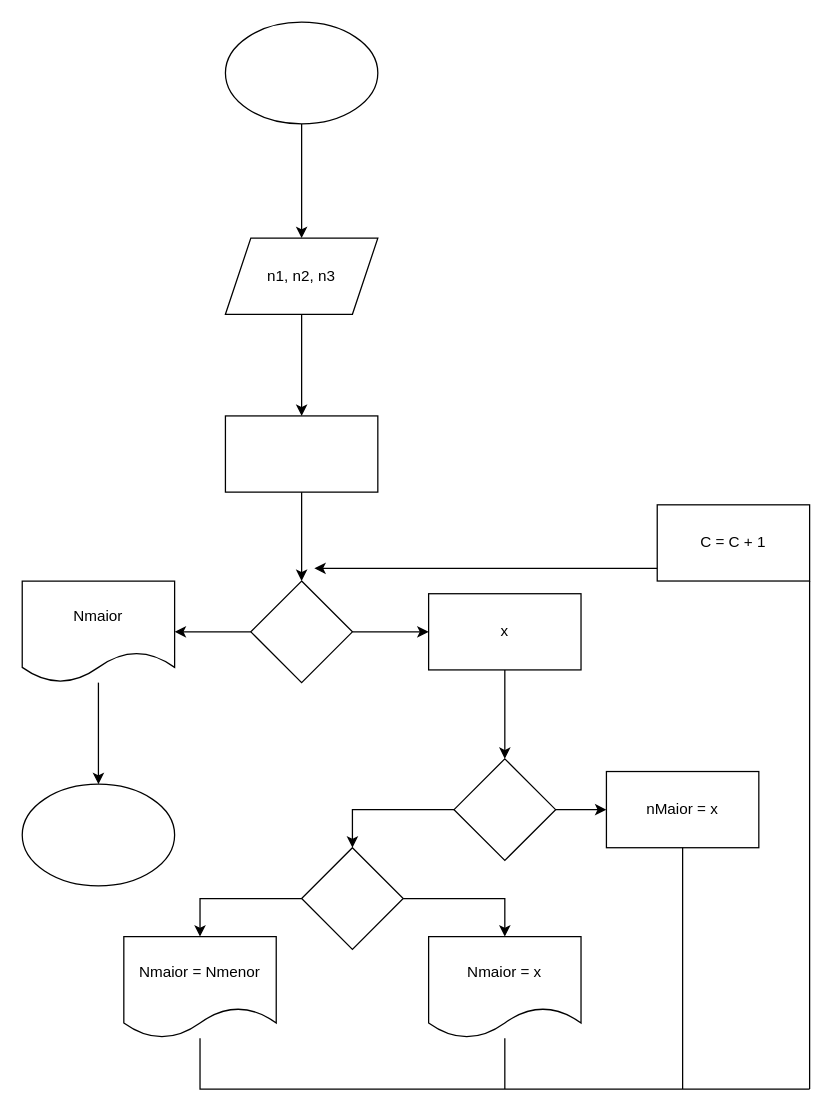
Some shapes in this 833 by 1113 pixel diagram are drawn without their labels. The shapes that lost their labels are listed below. From the top down, each one's box as (x1, y1, x2, y2) in pixels, then its label:
(224, 415, 378, 492): C = 0 nMaior = 0
(250, 580, 352, 683): C < 3
(453, 758, 556, 860): C = = 0
(300, 846, 403, 949): x > Nmaior
